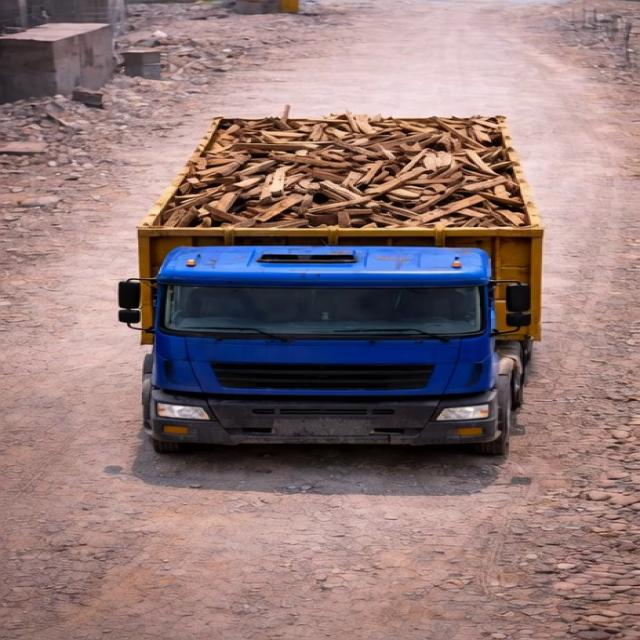Box: (137, 110, 548, 244)
Truck: (110, 96, 571, 450)
